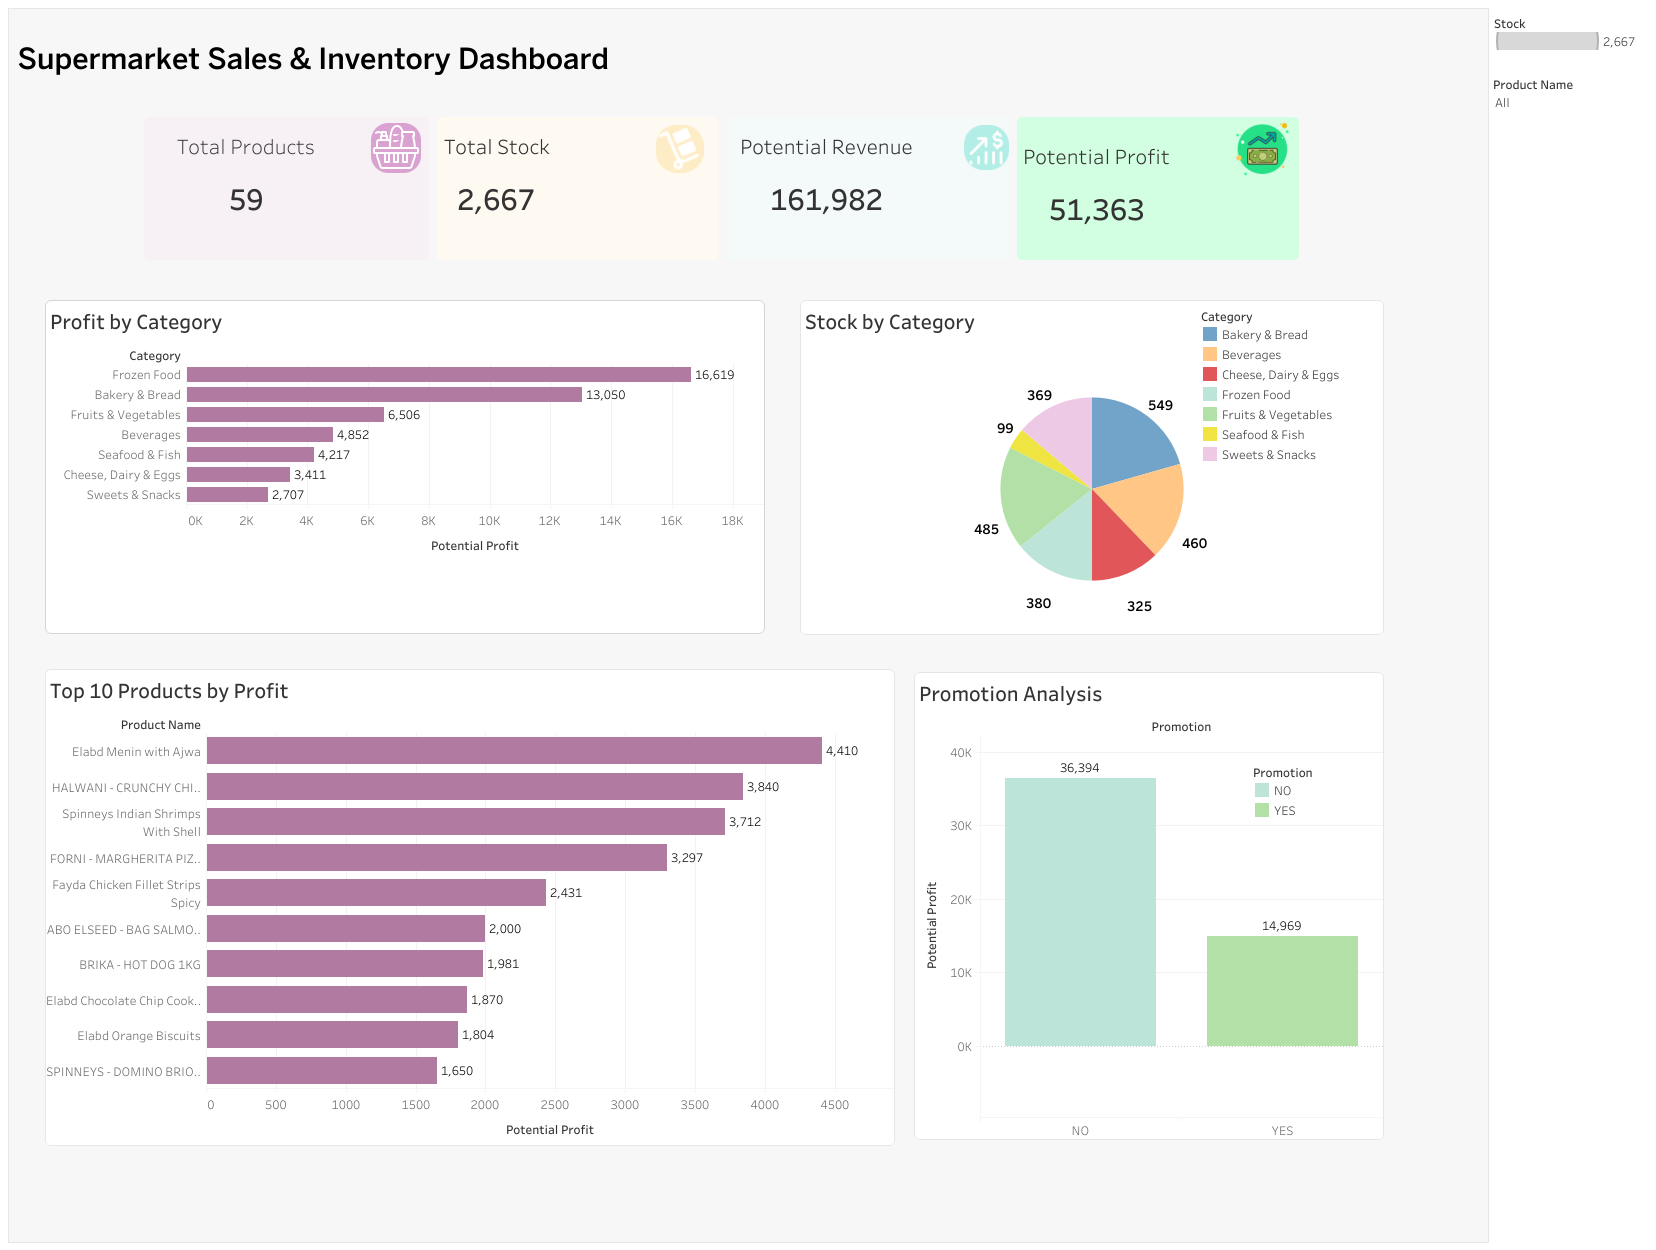

This screenshot's page, from the dashboard's own definition file:
{"tool":"tableau","page":{"name":"Supermarket Sales & Inventory Dashboard","canvas":[1657,1251],"ordinal":0},"visuals":[{"type":"text","box":[15,5.9,792,105.8]},{"type":"legend","title":"Stock by Category","param":"[federated.0uvg76z1n99mbh1e9t86z0jsyd40].[sum:Stock:qk]","box":[1489,8,160,62]},{"type":"filter","title":"Top 10 Products by Profit","param":"[federated.0uvg76z1n99mbh1e9t86z0jsyd40].[none:Product Name:nk]","box":[1489,70,160,153]},{"type":"worksheet","title":"KPI - Total Products","mark":"Automatic","box":[140,113,293,151]},{"type":"worksheet","title":"KPI - Total Stock","mark":"Automatic","box":[433,113,290,151]},{"type":"worksheet","title":"KPI - Potential Revenue","mark":"Automatic","box":[723,113,290,151]},{"type":"worksheet","title":"KPI - Potential Profit","mark":"Automatic","box":[1013,113,290,151]},{"type":"image","param":"Image/icons8-profit-100.png","box":[1229,115,74,67]},{"type":"image","param":"Image/icons8-products-50.png","box":[371,123,50,50]},{"type":"image","param":"Image/icons8-inventory-30.png","box":[656,125,56,48]},{"type":"image","param":"Image/icons8-revenue-48.png","box":[964,125,49,45]},{"type":"worksheet","title":"Profit by Category","mark":"Automatic","rows":["Category"],"cols":["Potential Profit"],"box":[45,300,720,334]},{"type":"worksheet","title":"Stock by Category","mark":"Pie","box":[800,300,584,335]},{"type":"legend","title":"Stock by Category","param":"[federated.0uvg76z1n99mbh1e9t86z0jsyd40].[none:Category:nk]","box":[1200,305,174,169]},{"type":"worksheet","title":"Top 10 Products by Profit","mark":"Automatic","rows":["Product Name"],"cols":["Potential Profit"],"box":[45,669,850,477]},{"type":"worksheet","title":"Promotion Analysis","mark":"Automatic","rows":["Potential Profit"],"cols":["Promotion"],"box":[914,672,470,468]},{"type":"legend","title":"Promotion Analysis","param":"[federated.0uvg76z1n99mbh1e9t86z0jsyd40].[none:Promotion:nk]","box":[1252,761,115,63]}]}

Visuals, with their boxes in screenshot pixels (x1, y1, x2, y2), scaled from the page's 1657x1251 canvas onto the 1656x1250 screenshot:
text: region(15, 6, 807, 112)
"Stock by Category" legend: region(1488, 8, 1648, 70)
"Top 10 Products by Profit" filter: region(1488, 70, 1648, 223)
"KPI - Total Products" worksheet: region(140, 113, 433, 264)
"KPI - Total Stock" worksheet: region(433, 113, 723, 264)
"KPI - Potential Revenue" worksheet: region(723, 113, 1012, 264)
"KPI - Potential Profit" worksheet: region(1012, 113, 1302, 264)
image: region(1228, 115, 1302, 182)
image: region(371, 123, 421, 173)
image: region(656, 125, 712, 173)
image: region(963, 125, 1012, 170)
"Profit by Category" worksheet: region(45, 300, 765, 633)
"Stock by Category" worksheet (Pie marks): region(800, 300, 1383, 634)
"Stock by Category" legend: region(1199, 305, 1373, 474)
"Top 10 Products by Profit" worksheet: region(45, 668, 894, 1145)
"Promotion Analysis" worksheet: region(913, 671, 1383, 1139)
"Promotion Analysis" legend: region(1251, 760, 1366, 823)
